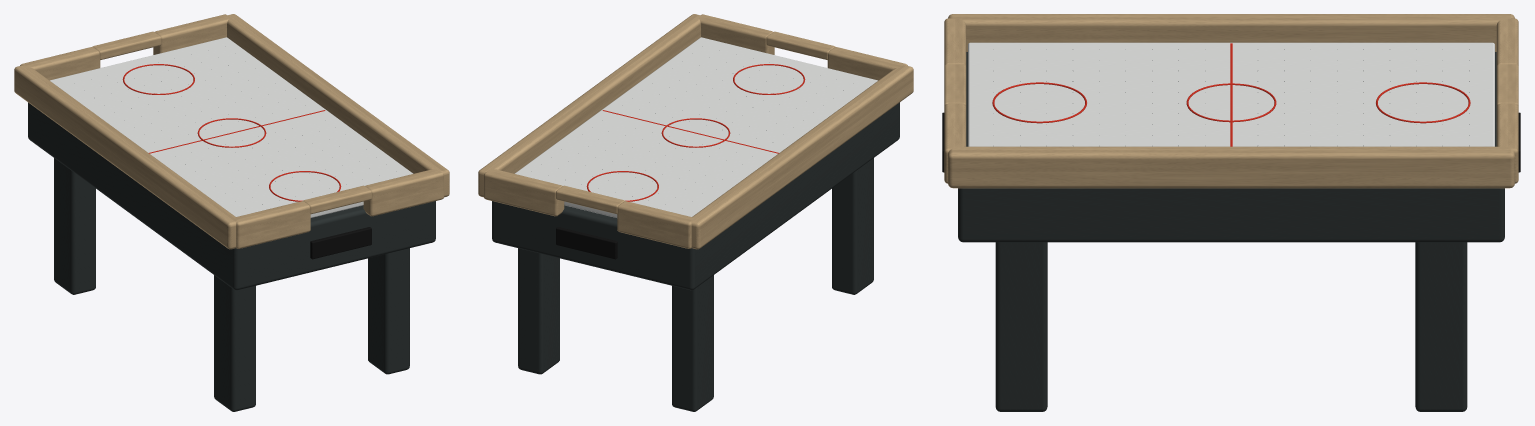
The model's file is air-hockey-game-table (1).glb.
The picture shows the model from 3 angles, left to right: view 1: azimuth 30°, elevation 25°; view 2: azimuth 150°, elevation 25°; view 3: azimuth 270°, elevation 25°; orthographic projection. The views are drawn at different scales.
Visible parts, largest first — view 1: Air hockey playing deck, Air blower cabinet, Rebound side rail, Rebound side rail.001, Air hockey angled foot, Air hockey angled foot.001, Air hockey angled foot.002, Goal side end rail.001, Goal side end rail, Goal side end rail.003, Goal side end rail.002, Recessed puck return (+2 smaller); view 2: Air hockey playing deck, Air blower cabinet, Rebound side rail, Rebound side rail.001, Air hockey angled foot.001, Air hockey angled foot, Air hockey angled foot.003, Goal side end rail.003, Goal side end rail.002, Goal side end rail.001, Goal side end rail, Recessed puck return.001 (+2 smaller); view 3: Air hockey playing deck, Air blower cabinet, Rebound side rail.001, Rebound side rail, Air hockey angled foot.002, Air hockey angled foot.003, Goal side end rail.001, Goal side end rail.003, Goal side end rail, Goal side end rail.002, Goal top rail, Goal top rail.001 (+2 smaller).
Boxes of the visible parts, x1=… form: Air hockey playing deck: x1=50, y1=37, x2=413, y2=217; Air blower cabinet: x1=28, y1=102, x2=435, y2=290; Rebound side rail: x1=14, y1=65, x2=236, y2=249; Rebound side rail.001: x1=226, y1=14, x2=449, y2=197; Air hockey angled foot: x1=214, y1=275, x2=255, y2=411; Air hockey angled foot.001: x1=54, y1=158, x2=95, y2=294; Air hockey angled foot.002: x1=368, y1=248, x2=409, y2=374; Goal side end rail.001: x1=363, y1=169, x2=443, y2=216; Goal side end rail: x1=234, y1=201, x2=310, y2=248; Goal side end rail.003: x1=153, y1=14, x2=229, y2=54; Goal side end rail.002: x1=20, y1=47, x2=100, y2=80; Recessed puck return: x1=310, y1=227, x2=371, y2=259; Air hockey playing deck: x1=514, y1=37, x2=877, y2=217; Air blower cabinet: x1=492, y1=102, x2=899, y2=290; Rebound side rail: x1=691, y1=65, x2=913, y2=249; Rebound side rail.001: x1=478, y1=14, x2=700, y2=197; Air hockey angled foot.001: x1=672, y1=275, x2=713, y2=411; Air hockey angled foot: x1=832, y1=158, x2=873, y2=294; Air hockey angled foot.003: x1=518, y1=248, x2=559, y2=374; Goal side end rail.003: x1=484, y1=169, x2=564, y2=216; Goal side end rail.002: x1=617, y1=201, x2=693, y2=248; Goal side end rail.001: x1=698, y1=14, x2=774, y2=54; Goal side end rail: x1=827, y1=47, x2=907, y2=80; Recessed puck return.001: x1=556, y1=227, x2=617, y2=259; Air hockey playing deck: x1=968, y1=42, x2=1494, y2=146; Air blower cabinet: x1=958, y1=52, x2=1504, y2=242; Rebound side rail.001: x1=948, y1=146, x2=1514, y2=188; Rebound side rail: x1=948, y1=14, x2=1514, y2=51; Air hockey angled foot.002: x1=995, y1=242, x2=1047, y2=411; Air hockey angled foot.003: x1=1415, y1=242, x2=1467, y2=411; Goal side end rail.001: x1=944, y1=103, x2=966, y2=183; Goal side end rail.003: x1=1496, y1=103, x2=1518, y2=183; Goal side end rail: x1=944, y1=18, x2=966, y2=66; Goal side end rail.002: x1=1496, y1=18, x2=1518, y2=66; Goal top rail: x1=944, y1=64, x2=966, y2=106; Goal top rail.001: x1=1496, y1=64, x2=1518, y2=106.
Bounding box in the file's own units: 0.98 × 0.8765 × 1.68.
Materials: 6 (6 with a texture image).
